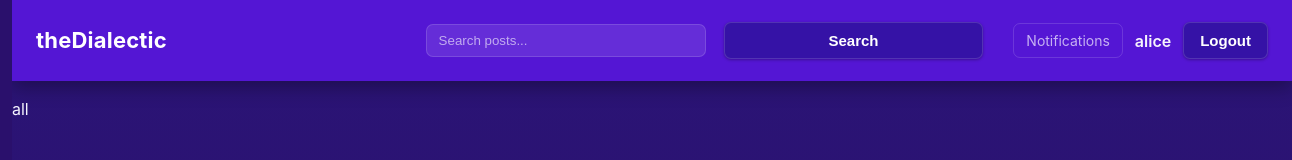
Test: Topbar › Clear returns the view to all and remounts SearchBox, discarding any unsubmitted typed text
The image size is (1292, 160).
Expected: the text "alice" is shown, [1135,28,1171,52]
Type "dragons" into the field labelled "Search posts" at coordinates (566, 40), box [426,24,706,57]
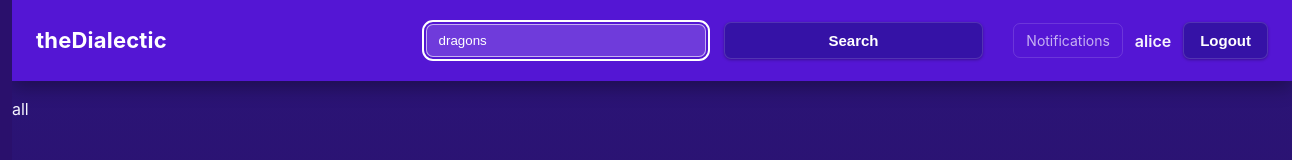
Click the button "Search" at coordinates (853, 40), box [724,22,983,59]
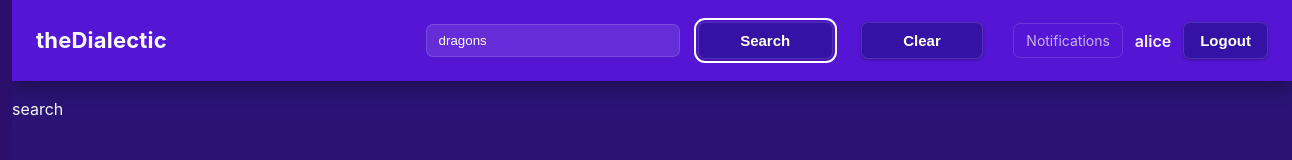
Result: the text with test id "view-probe" reads "search" at [12,99,63,119]
Type "unsubmitted text" into the field named "Search posts" at coordinates (553, 40), box [426,24,680,57]
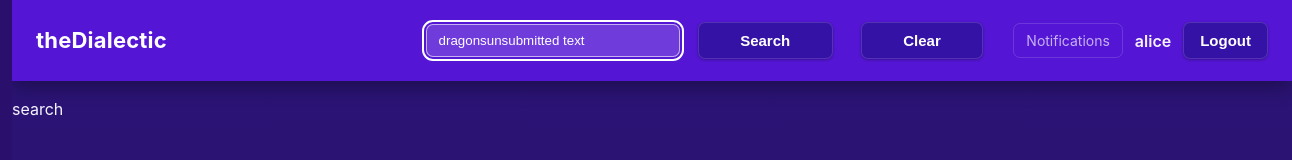
Click the button "Clear" at coordinates (922, 40), box [861,22,983,59]
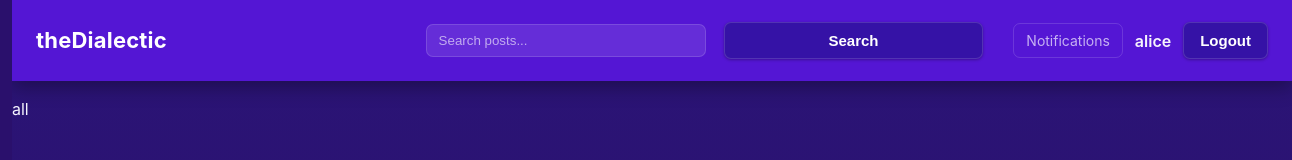
Result: the text with test id "view-probe" reads "all" at [12,99,29,119]
Result: the button "Clear" is gone
Result: the field labelled "Search posts" is empty at [426,24,706,57]
